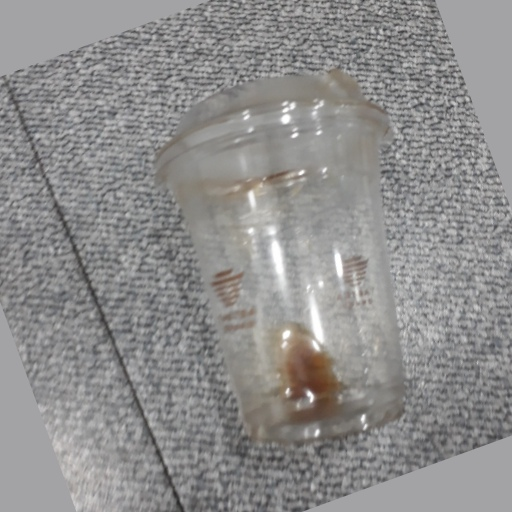Plastic_2: (156, 73, 406, 449)
